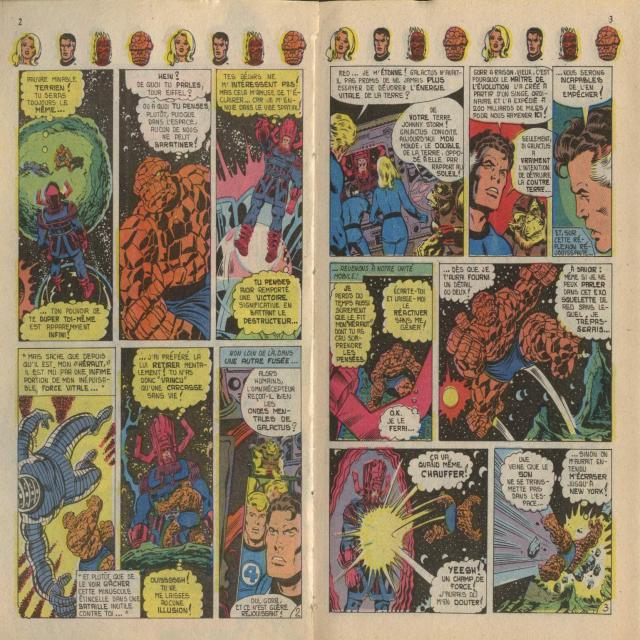comic_panel: (437, 261, 614, 445), (16, 346, 117, 622), (328, 445, 490, 617), (17, 68, 115, 346), (328, 64, 466, 260), (119, 345, 215, 621), (118, 67, 212, 344), (213, 66, 304, 344), (217, 345, 303, 622), (492, 445, 614, 619), (327, 261, 435, 444), (468, 65, 552, 260), (552, 65, 613, 258)
